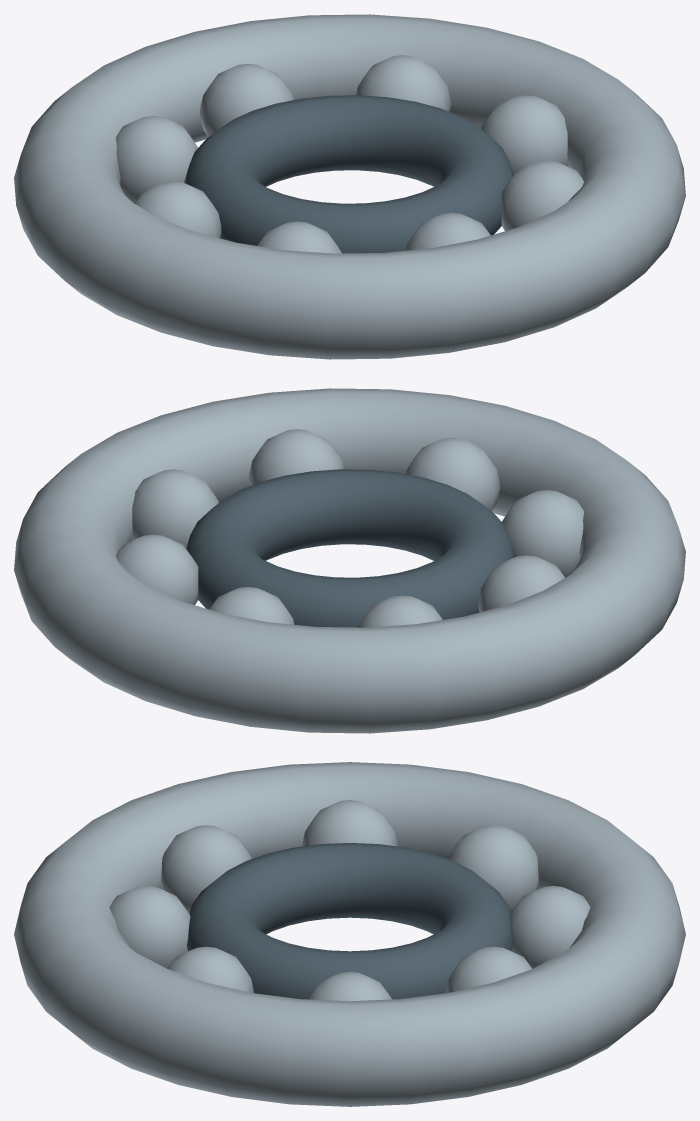
The model's file is bearing.glb.
3 renders of one model, top to bottom at view 1: azimuth 30°, elevation 25°; view 2: azimuth 150°, elevation 25°; view 3: azimuth 270°, elevation 25°, orthographic.
Visible parts, largest first — view 1: bearing_textured_mesh; view 2: bearing_textured_mesh; view 3: bearing_textured_mesh.
Part boxes in pixels (x1,y1,x2,y2): bearing_textured_mesh: (14, 14, 685, 359); bearing_textured_mesh: (14, 388, 685, 733); bearing_textured_mesh: (14, 762, 685, 1106).
Size of the model in its own units: 1.52 by 0.24 by 1.52.
1 material, 1 textured.
